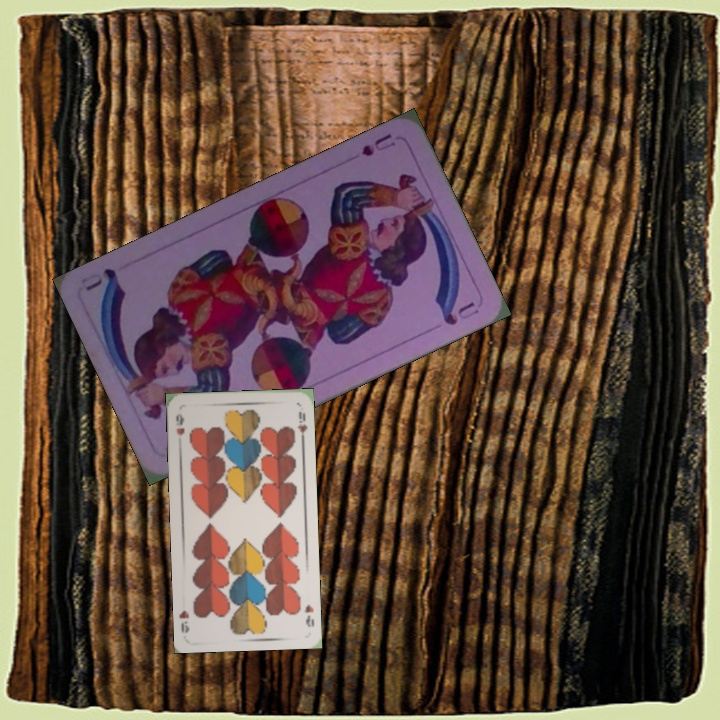H9: (301, 600, 317, 629), (172, 410, 187, 438)
SU: (357, 130, 399, 159)
